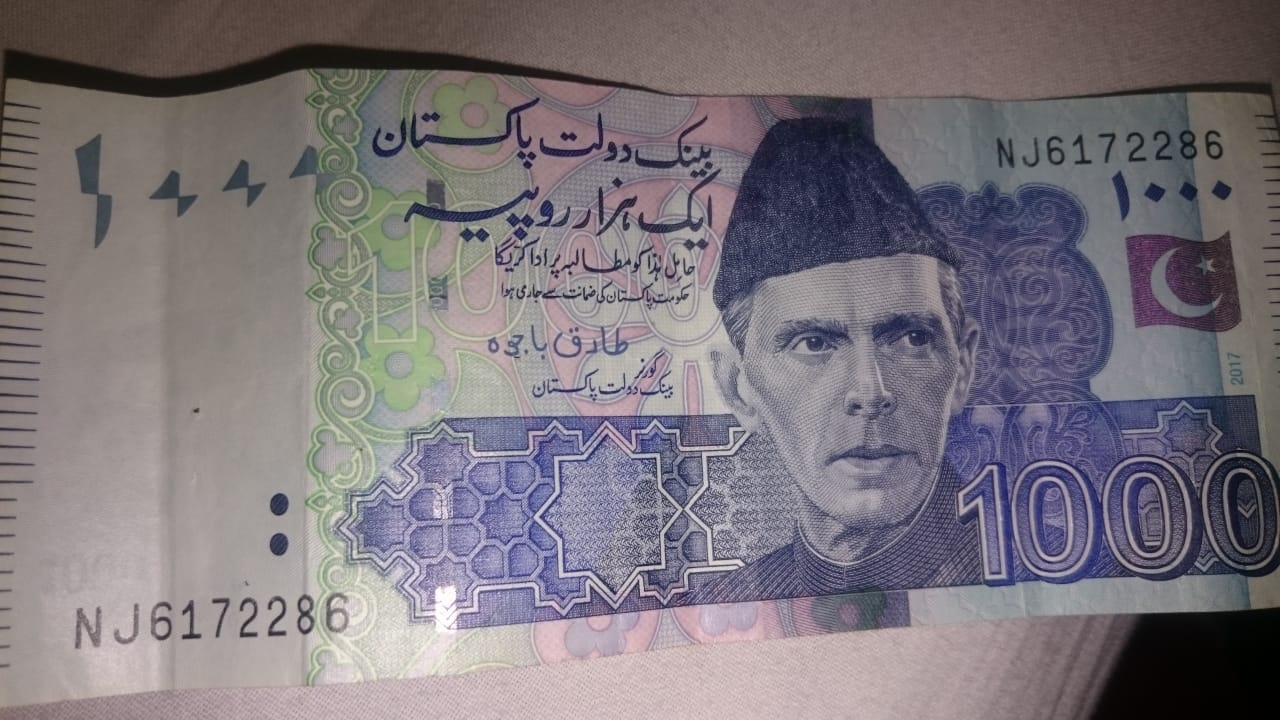1000 rupee: (17, 18, 1280, 696)
